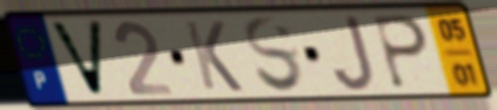2: (111, 18, 179, 98)
J: (330, 13, 378, 94)
K: (181, 19, 247, 94)
P: (370, 13, 432, 93)
S: (241, 14, 308, 97)
V: (45, 18, 106, 100)
